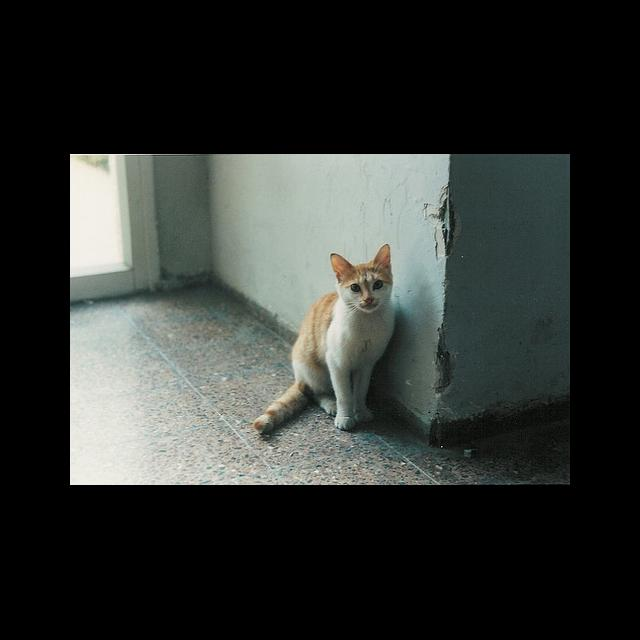animals: (332, 244, 390, 302)
